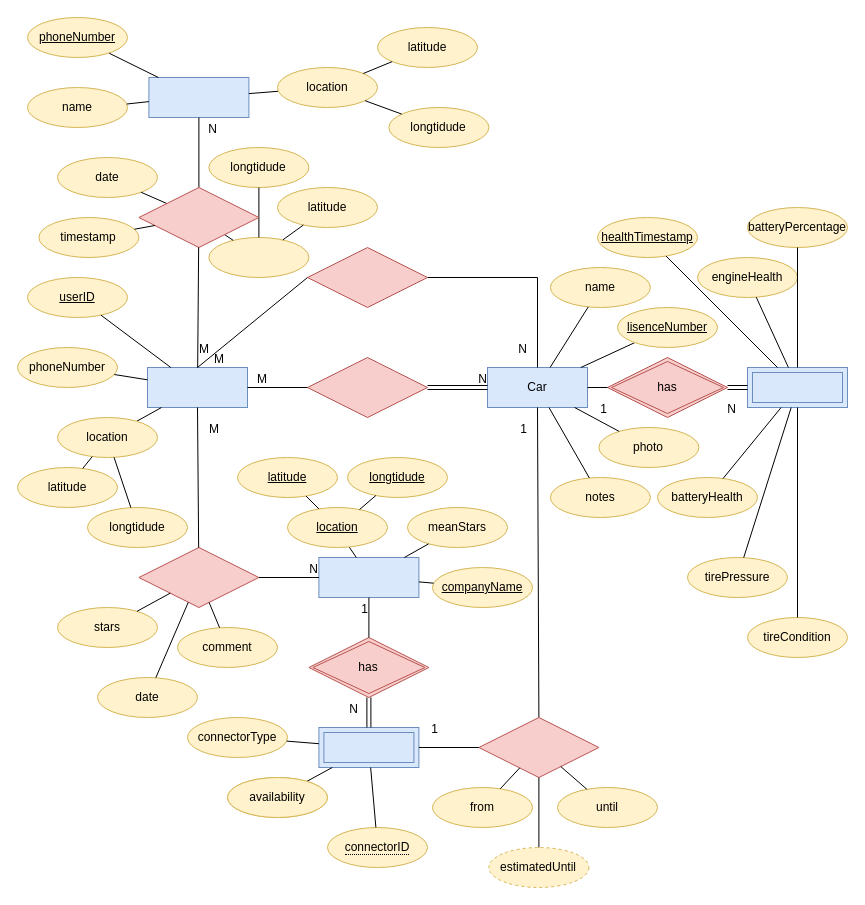
Image size: 865x905. Some labels were removed from this diagram. The shapes that lost their labels are listed below. From the top down, each one's centre as x and y in pixels, then its label:
At pixel 198 97: "RSA".
At pixel 198 217: "calls".
At pixel 258 257: "caller_location".
At pixel 367 277: "owns".
At pixel 197 387: "User".
At pixel 367 387: "drives".
At pixel 797 387: "Health".
At pixel 198 577: "reviews".
At pixel 368 577: "Charging Station".
At pixel 368 747: "Connector".
At pixel 538 747: "occupy".
